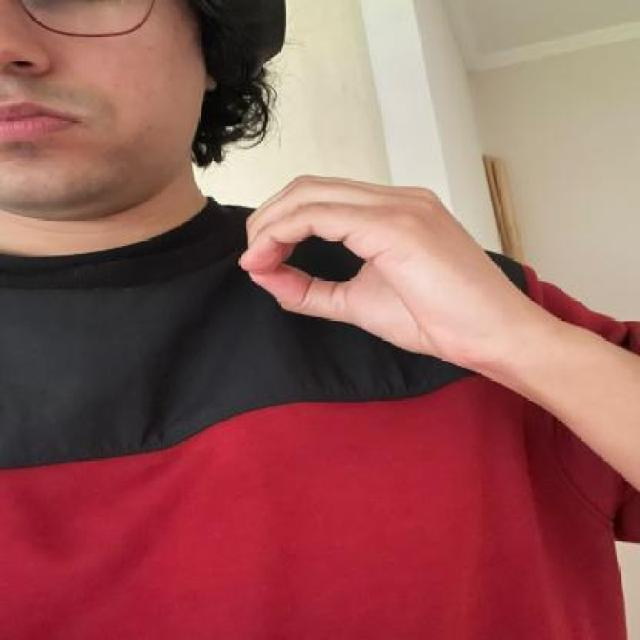O: (233, 161, 507, 373)
